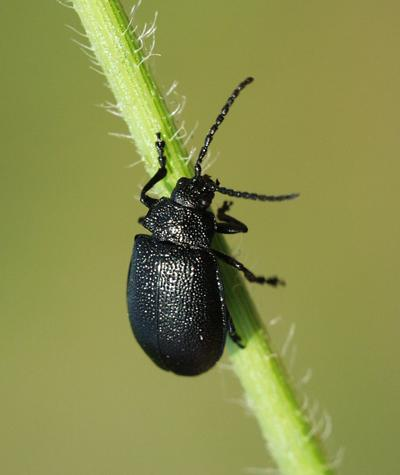Galeruca_tanaceti: (124, 72, 304, 377)
